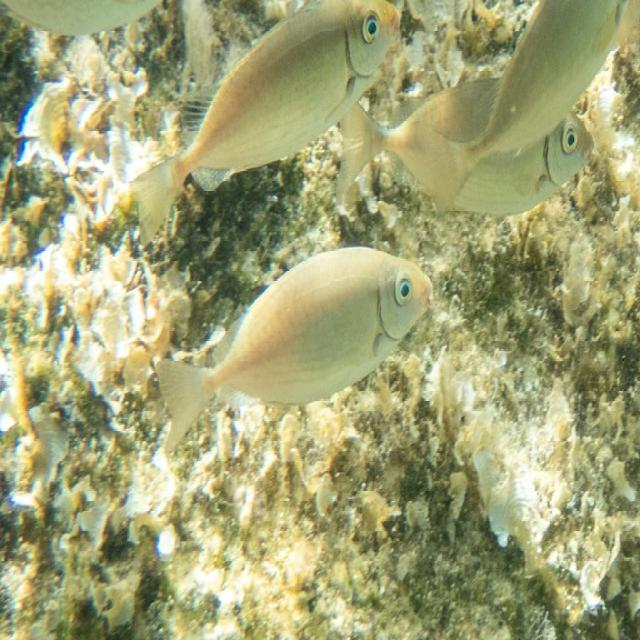Sokar Baligi: (153, 231, 444, 469)
